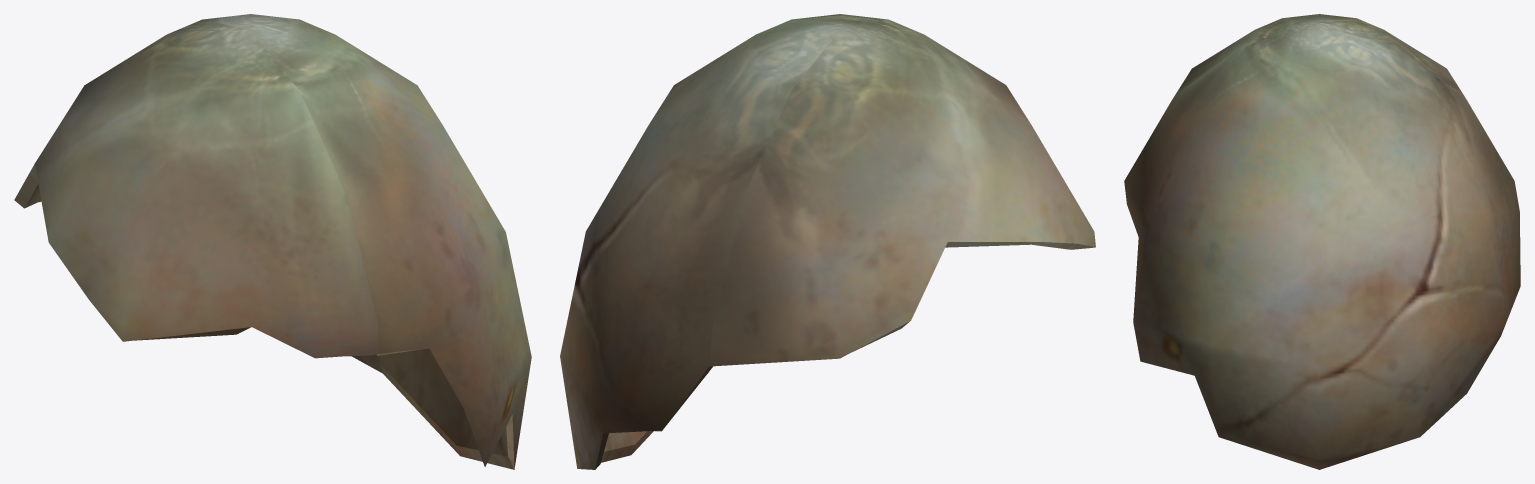
File: D_longdan005.fbx
3 renders of one model, left to right at view 1: azimuth 30°, elevation 25°; view 2: azimuth 150°, elevation 25°; view 3: azimuth 270°, elevation 25°, orthographic. The views are drawn at different scales.
Parts seen in each view (by area): view 1: D_longdan005; view 2: D_longdan005; view 3: D_longdan005.
Boxes of the visible parts, x1=… form: D_longdan005: x1=14, y1=14, x2=531, y2=469; D_longdan005: x1=560, y1=14, x2=1095, y2=469; D_longdan005: x1=1124, y1=14, x2=1520, y2=469.
Size of the model in its own units: 410 by 420 by 413.
